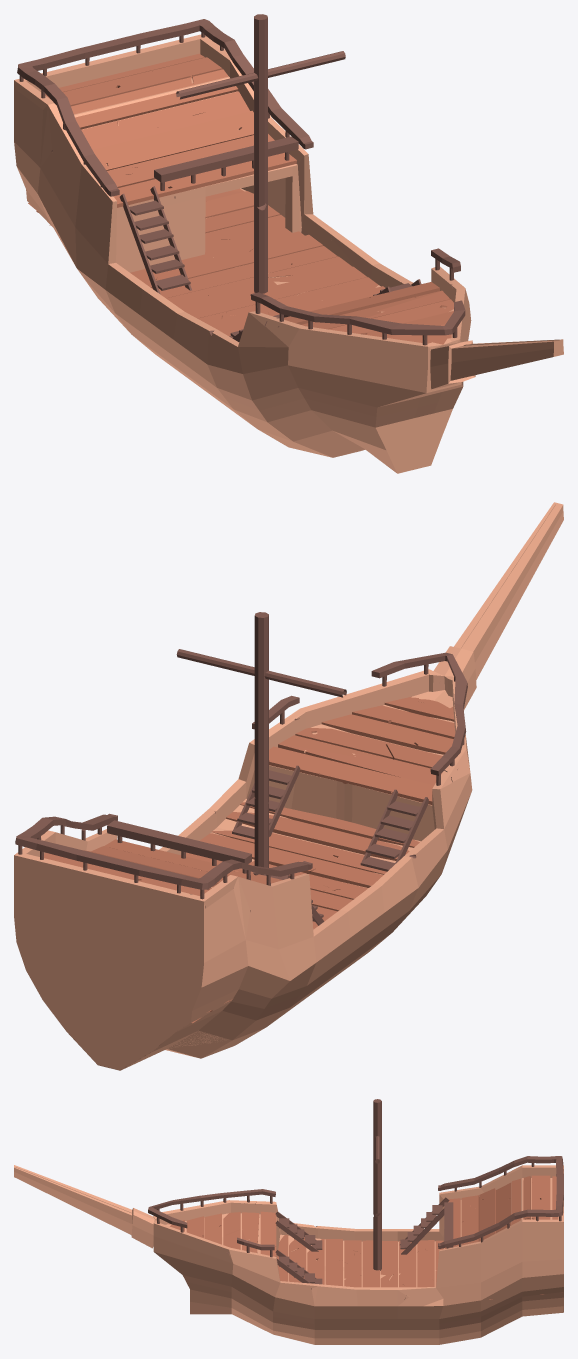
Rendered from Ship4.4.glb.
The picture shows the model from 3 angles, top to bottom: view 1: azimuth 30°, elevation 25°; view 2: azimuth 150°, elevation 25°; view 3: azimuth 270°, elevation 25°; orthographic projection. The views are drawn at different scales.
Visible parts, largest first — view 1: body1; view 2: body1; view 3: body1.
Part boxes in pixels (x1,y1,x2,y2): body1: [14, 14, 563, 473]; body1: [14, 502, 563, 1070]; body1: [14, 1099, 563, 1344].
Size of what is drawn, in the model's own units: 10.06 by 17.59 by 37.02.
3 materials, 3 textured.
